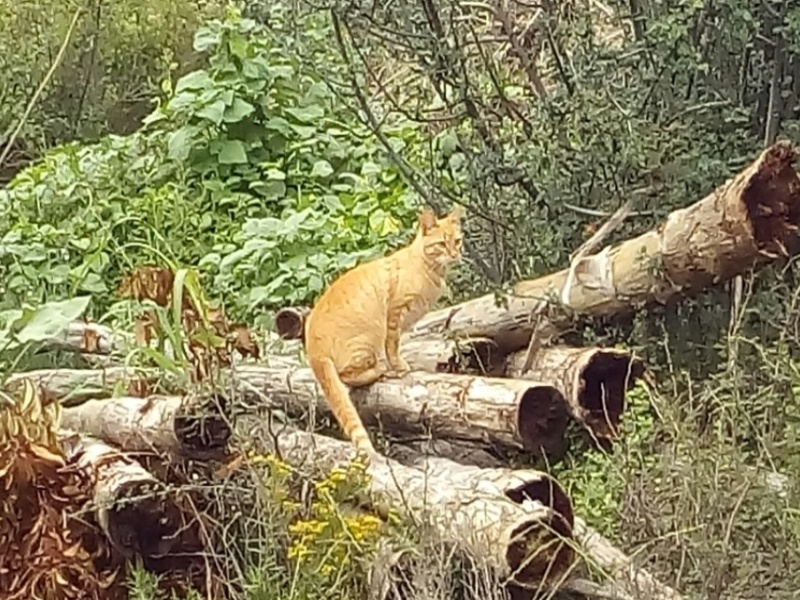cat: (300, 201, 472, 466)
